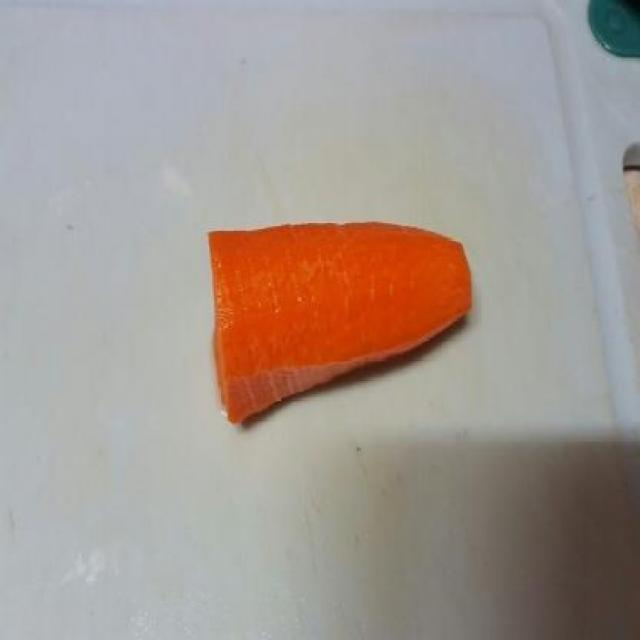carrot: (206, 213, 474, 432)
